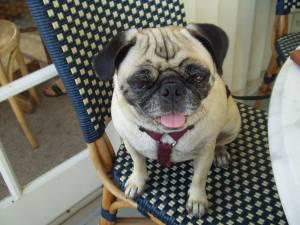dog-pug: (91, 22, 227, 131)
